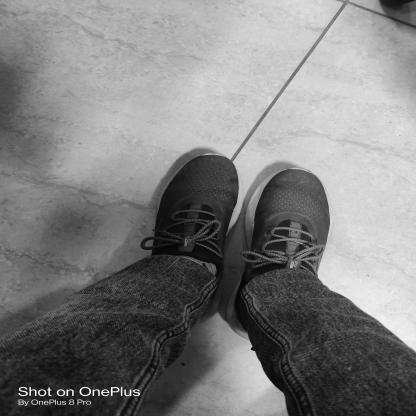ankle: (217, 271, 222, 274), (247, 281, 251, 283)
heel: (244, 333, 248, 338), (202, 318, 207, 321)
left_foot: (152, 155, 244, 323)
pinky: (321, 197, 326, 203), (180, 174, 185, 178)
right_foot: (237, 169, 333, 341)
toe: (278, 179, 283, 184), (228, 167, 233, 171)
